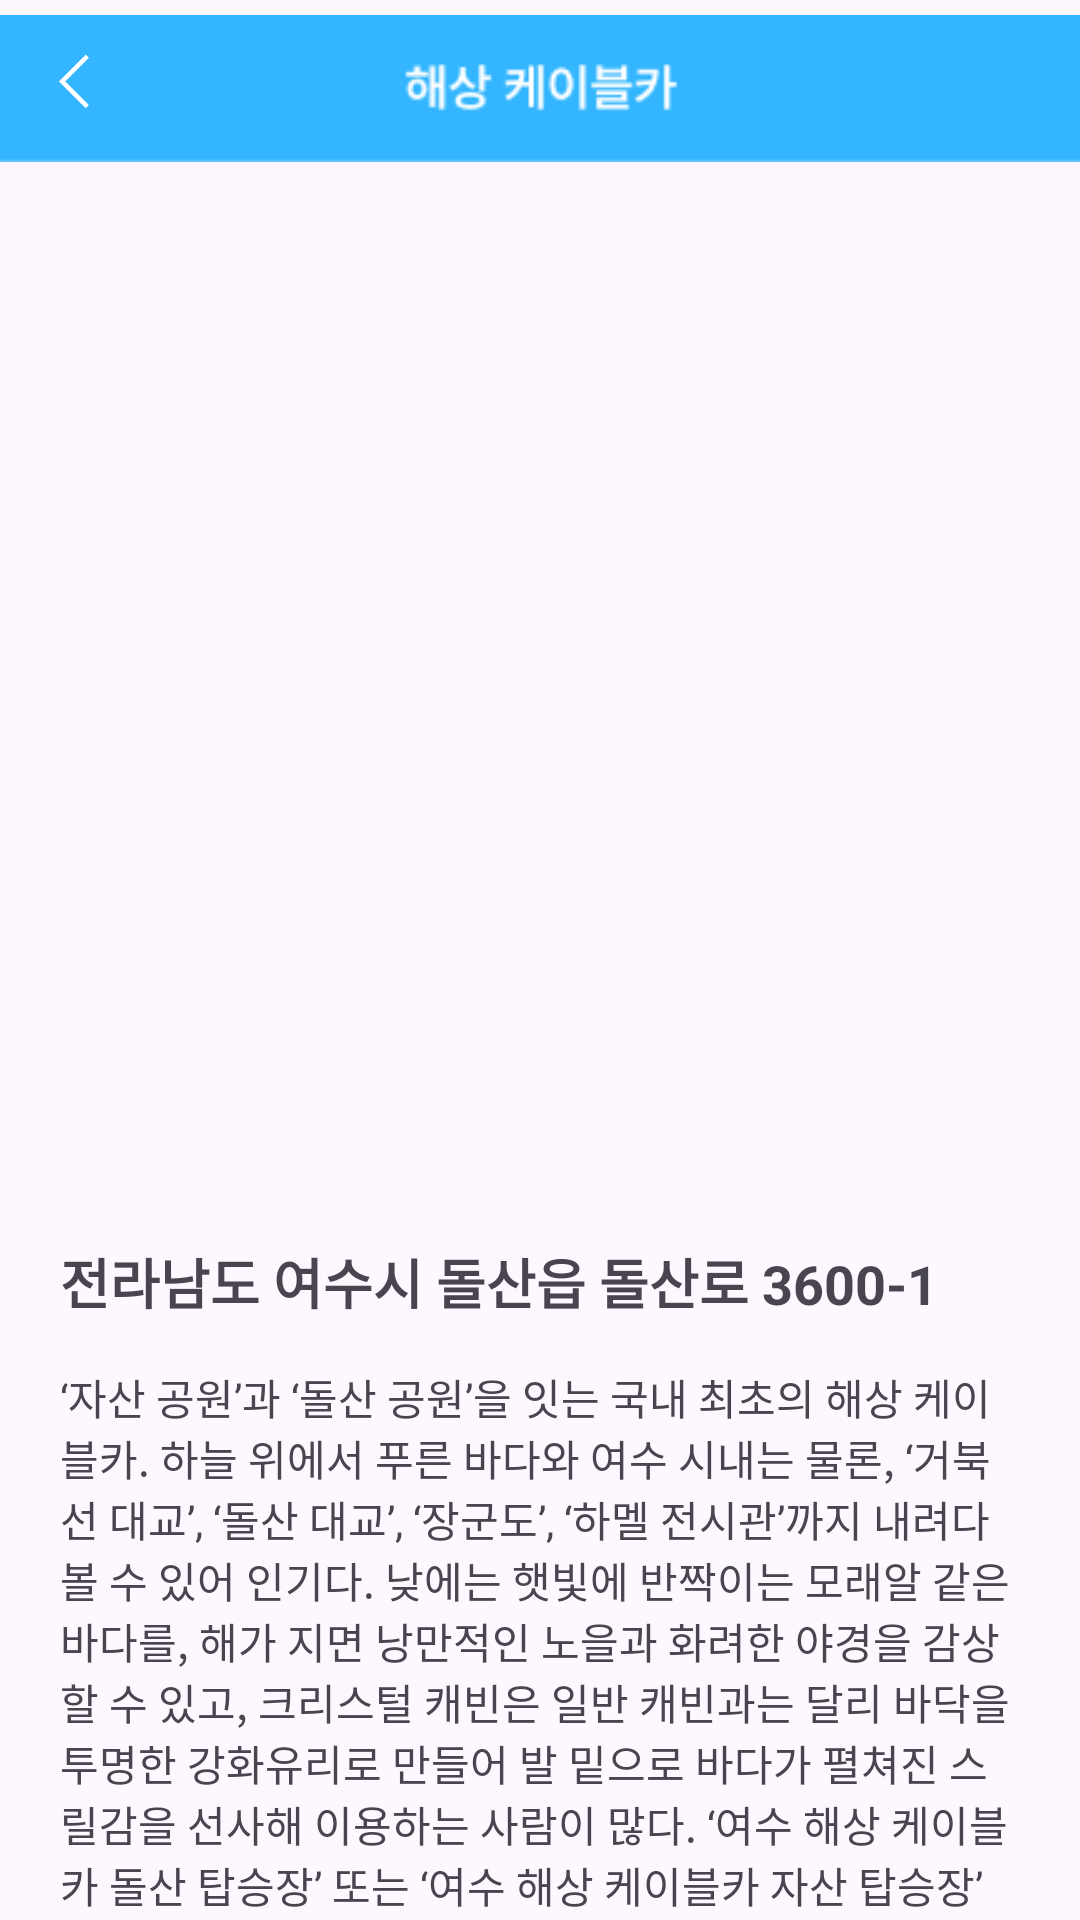

Icon click points for this 1080 x 1920 phone screenshot, format (x=x, y=y):
back: (x=74, y=81)
